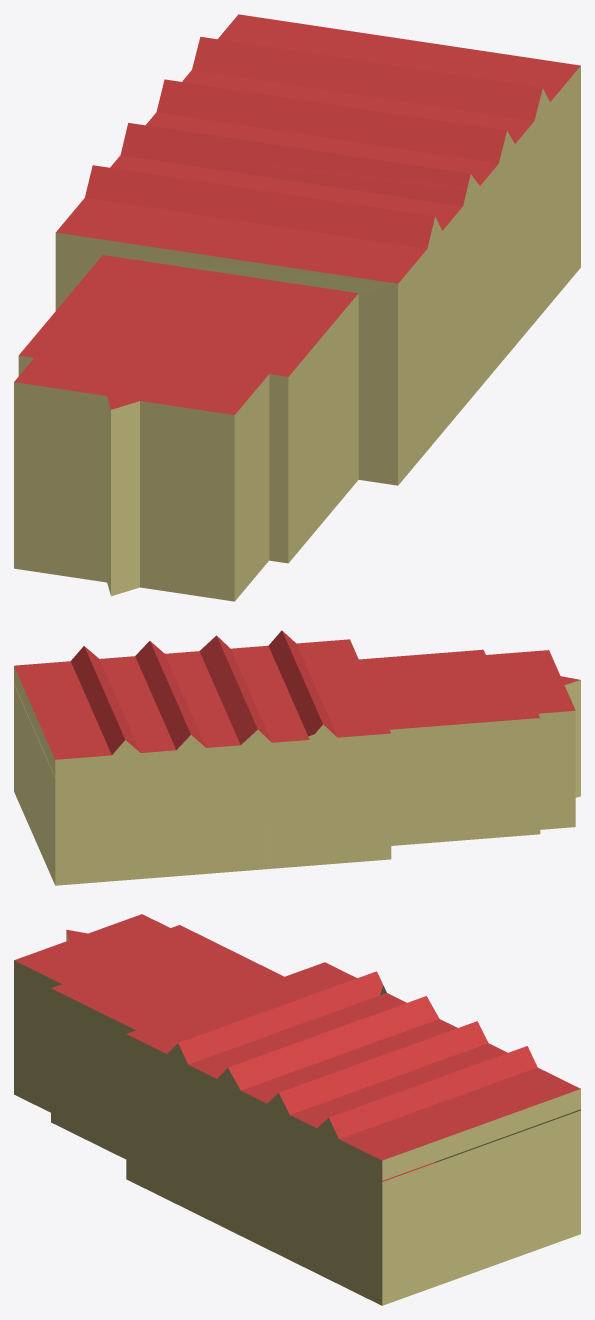
The picture shows the model from 3 angles, top to bottom: view 1: azimuth 30°, elevation 25°; view 2: azimuth 150°, elevation 25°; view 3: azimuth 270°, elevation 25°; orthographic projection. The views are drawn at different scales.
Size of the model in its own units: 47.23 by 43.92 by 13.84.
